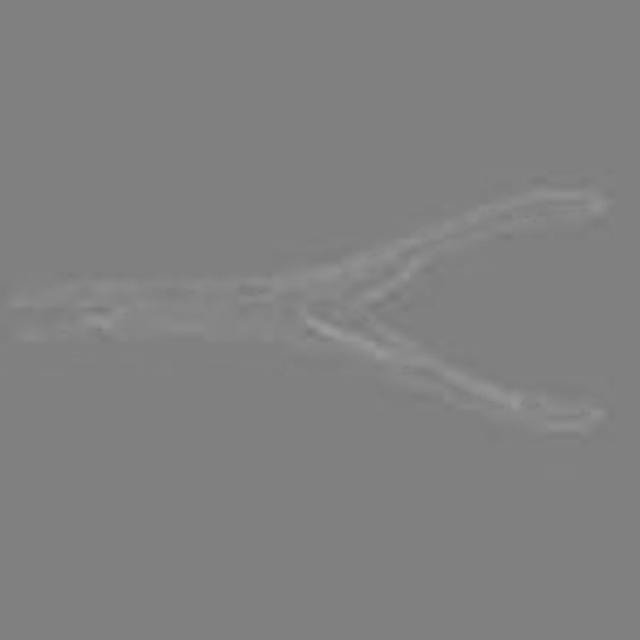gubia: (14, 185, 614, 441)
